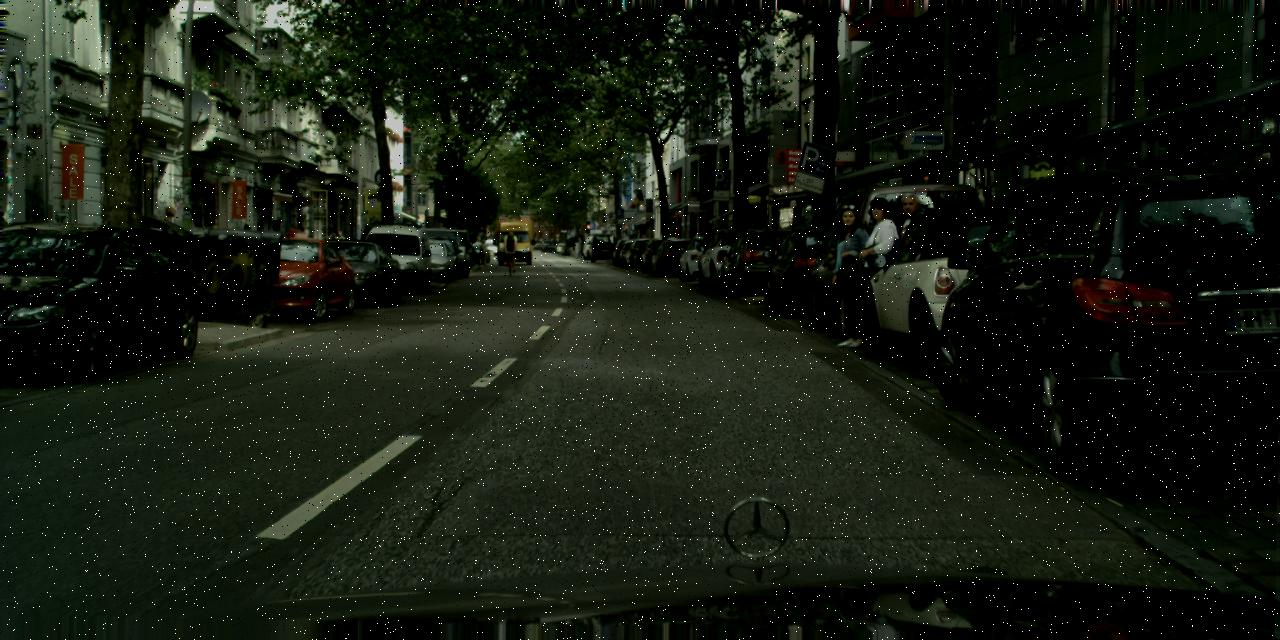ped: (876, 192, 938, 343), (846, 196, 907, 344), (819, 205, 878, 348), (156, 206, 181, 267), (284, 223, 300, 264), (292, 224, 308, 265), (502, 230, 518, 268), (744, 221, 758, 258), (478, 240, 488, 264), (574, 237, 582, 258), (328, 230, 346, 239)
